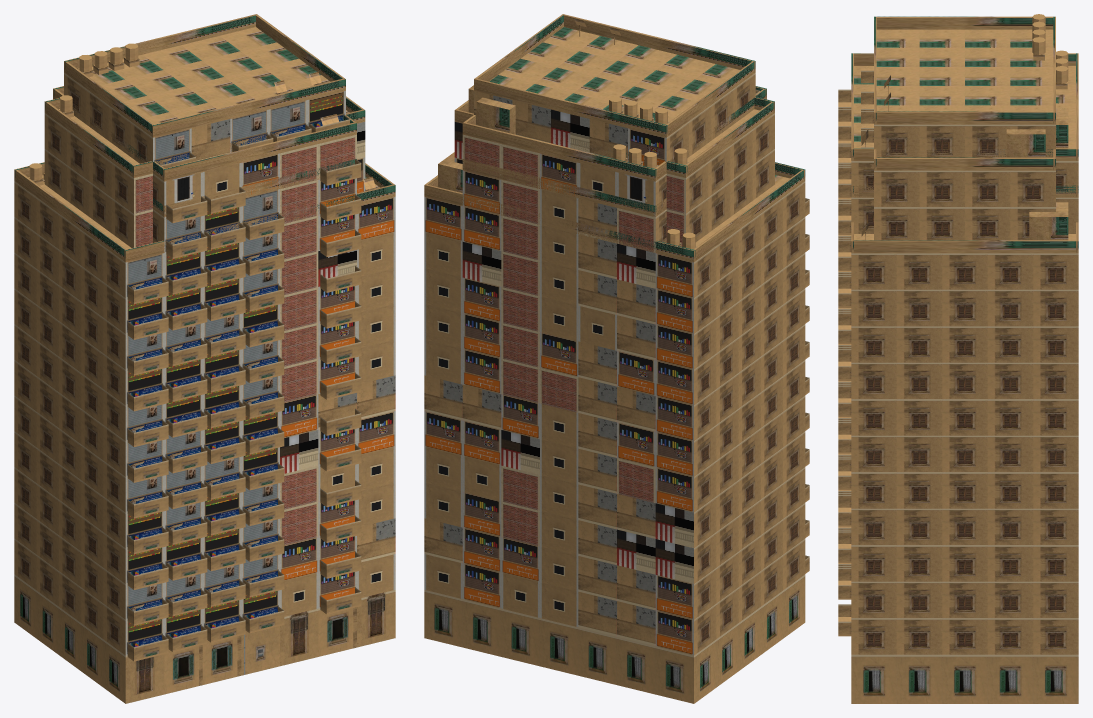
3 renders of one model, left to right at view 1: azimuth 30°, elevation 25°; view 2: azimuth 150°, elevation 25°; view 3: azimuth 270°, elevation 25°, orthographic. The views are drawn at different scales.
Visible parts, largest first — view 1: Plaster_7x5_f11_v1, Plaster_5x5_f12_v0, Plaster_5x4_f14_v1, Plaster_6x4_f13_v0, Plaster_5x5_f13_v0, Plaster_5x5_f13_v1; view 2: Plaster_5x5_f12_v0, Plaster_7x5_f11_v1, Plaster_5x4_f14_v1, Plaster_5x5_f13_v0, Plaster_6x4_f13_v0; view 3: Plaster_7x5_f11_v1, Plaster_5x4_f14_v1, Plaster_6x4_f13_v0, Plaster_5x5_f13_v0, Plaster_5x5_f12_v0, Plaster_5x5_f13_v1.
Boxes of the visible parts, bbox=[...] form: Plaster_7x5_f11_v1: bbox=[14, 162, 395, 703]; Plaster_5x5_f12_v0: bbox=[153, 159, 356, 694]; Plaster_5x4_f14_v1: bbox=[64, 14, 350, 168]; Plaster_6x4_f13_v0: bbox=[44, 95, 365, 247]; Plaster_5x5_f13_v0: bbox=[53, 86, 356, 216]; Plaster_5x5_f13_v1: bbox=[166, 114, 361, 223]; Plaster_5x5_f12_v0: bbox=[462, 159, 666, 694]; Plaster_7x5_f11_v1: bbox=[424, 152, 809, 703]; Plaster_5x4_f14_v1: bbox=[474, 14, 759, 165]; Plaster_5x5_f13_v0: bbox=[462, 86, 766, 216]; Plaster_6x4_f13_v0: bbox=[454, 85, 774, 246]; Plaster_7x5_f11_v1: bbox=[838, 202, 1078, 703]; Plaster_5x4_f14_v1: bbox=[861, 14, 1055, 157]; Plaster_6x4_f13_v0: bbox=[874, 129, 1055, 240]; Plaster_5x5_f13_v0: bbox=[851, 50, 1078, 197]; Plaster_5x5_f12_v0: bbox=[838, 140, 1078, 567]; Plaster_5x5_f13_v1: bbox=[838, 89, 868, 234].
Bounding box in the file's own units: 24.5 × 49.15 × 18.5.
1 material, 1 textured.
